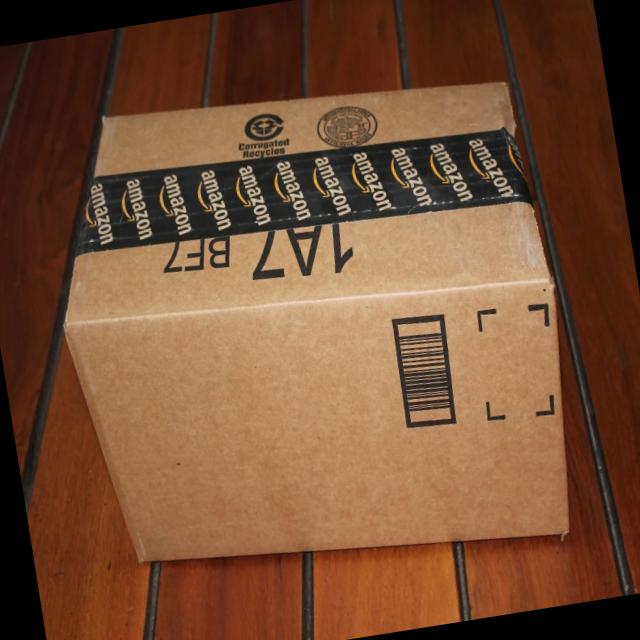box: (62, 80, 571, 565)
